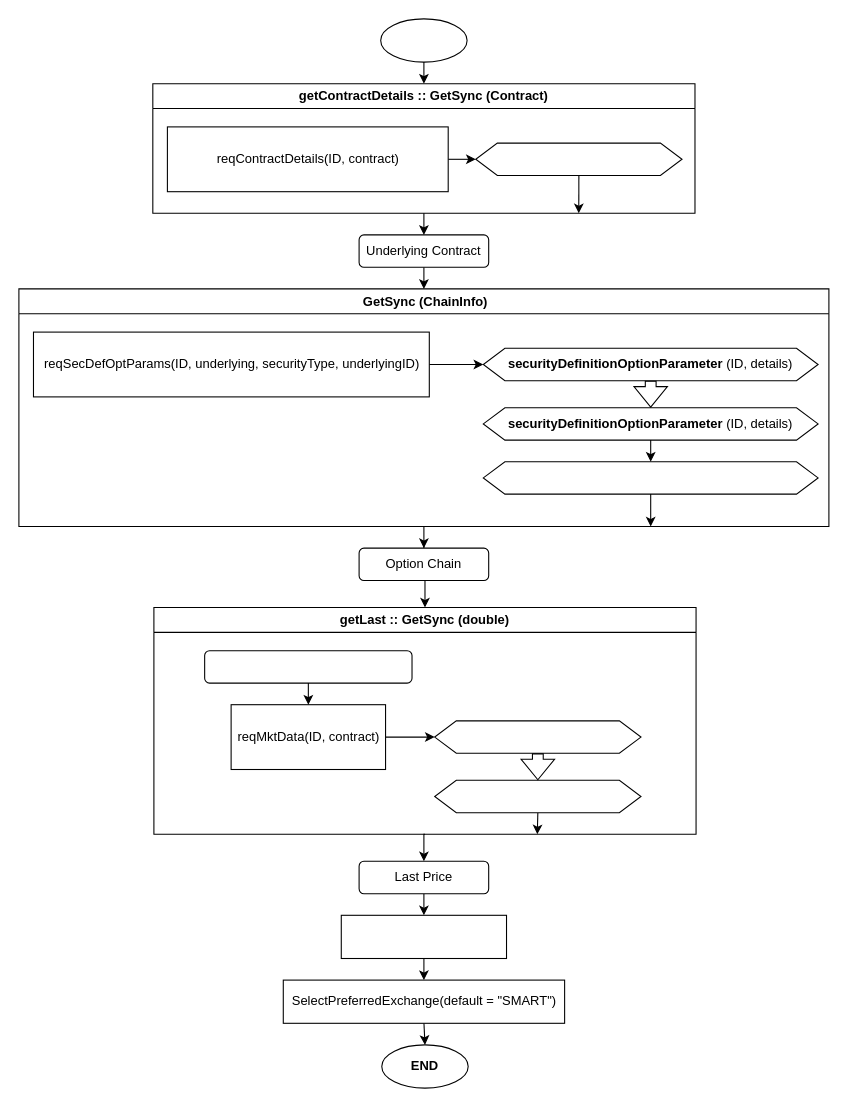
Image size: 848x1107. Some labels were removed from this diagram. The centre of each missing label's shape, as x and y in pixels:
"contractDetails (ID, details )" goes at pixel 578 159.
"FilterStrikesInPctChange()" goes at pixel 423 936.
"securityDefinitionOptionParameterEnd (ID, details )" goes at pixel 650 477.
"snapshot.mode = PriceType::LAST" goes at pixel 308 666.
"START" goes at pixel 423 40.
"tickPrice (ID, field, details )" goes at pixel 537 736.
"tickPrice (ID, LAST, details )" goes at pixel 537 796.
